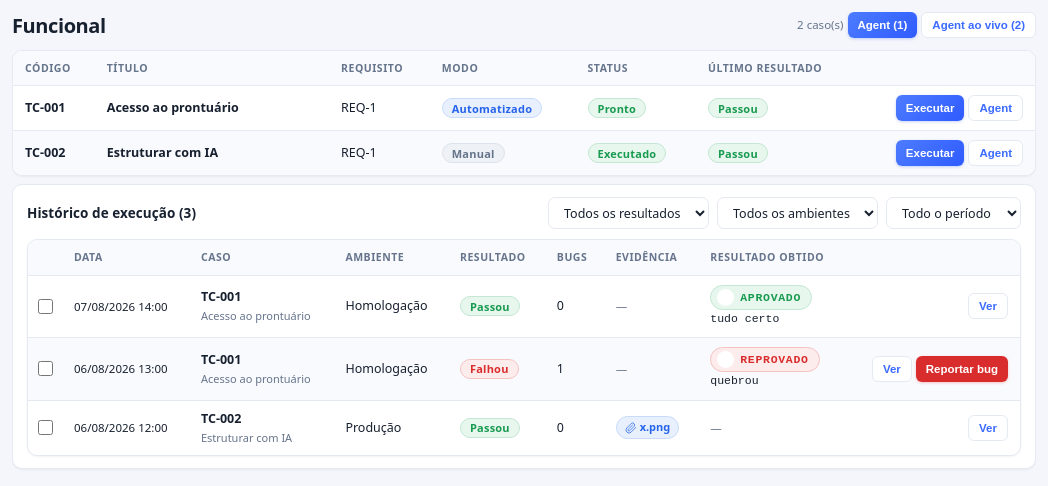
Execution — histórico com filtros e paginação › filtra por resultado e mostra o contador
Expected: the heading "Histórico de execução (3)" is shown, [27,203,196,224]
Select "Falhou" in the dropdown named "Filtrar por resultado": x=628, y=213 [548,197,709,229]
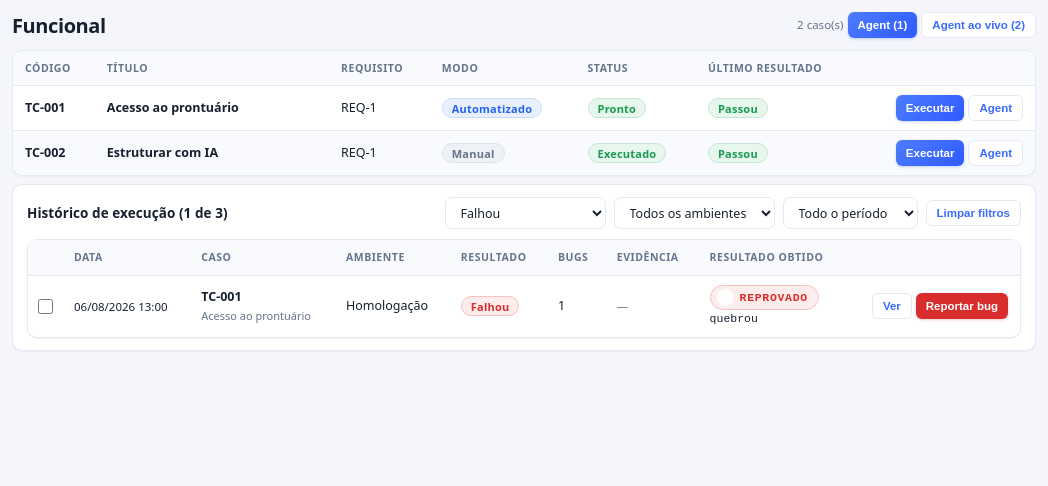
Expected: the text "quebrou" is shown, [710,312,758,325]
Now the heading "Histórico de execução (1 de 3)" is shown, box [27,203,228,224]
Limpa os filtros
Click the button "Limpar filtros": x=973, y=213 [926,200,1021,226]
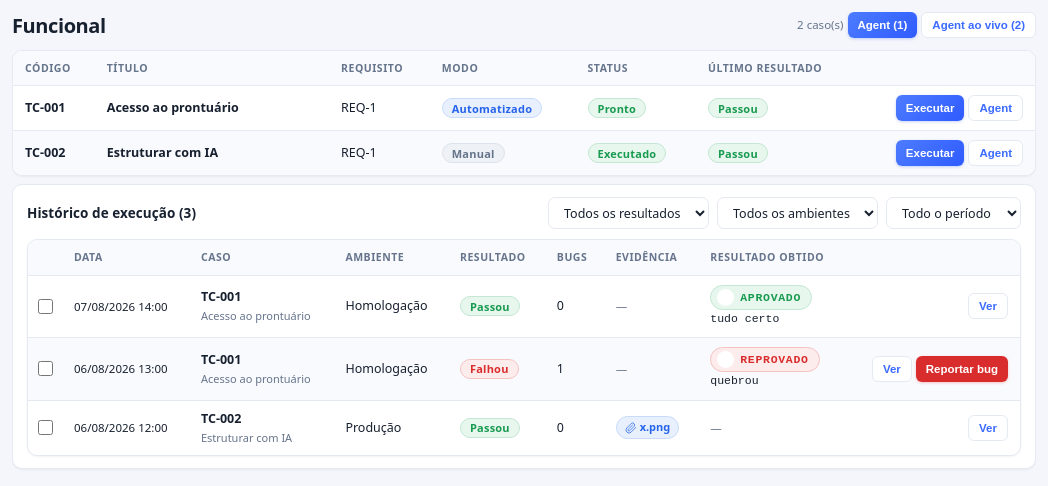
Now the heading "Histórico de execução (3)" is shown, box [27,203,196,224]
